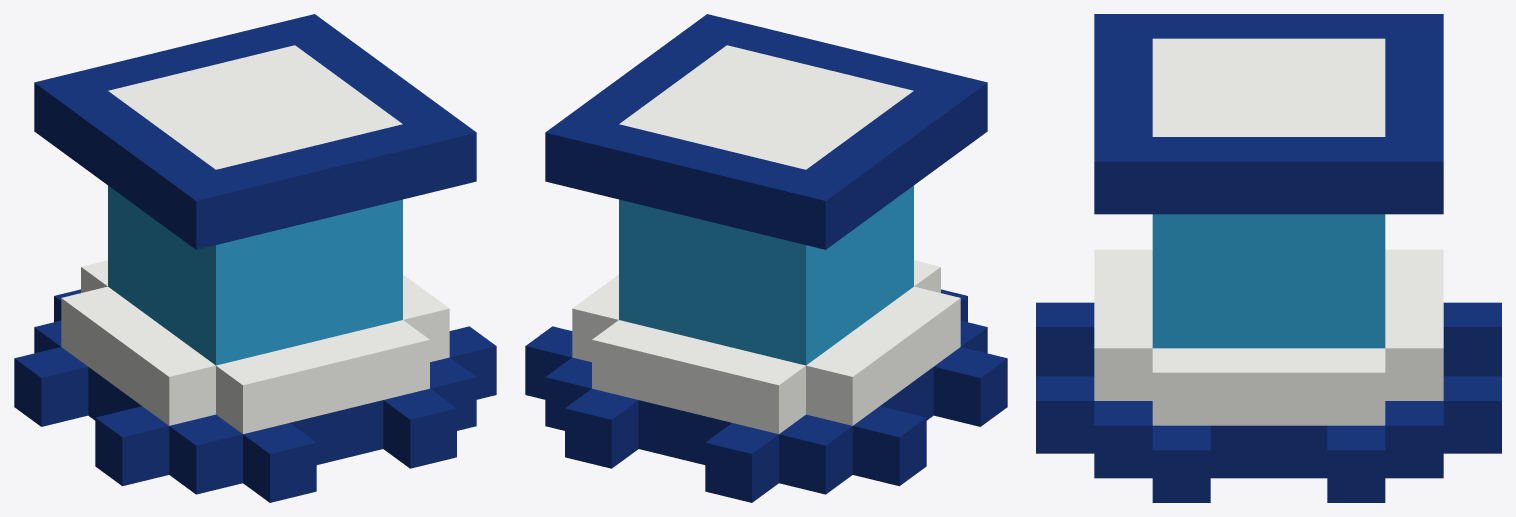
3 views of the same model, side by side, from view 1: azimuth 30°, elevation 25°; view 2: azimuth 150°, elevation 25°; view 3: azimuth 270°, elevation 25° (orthographic). The views are drawn at different scales.
Visible parts, largest first — view 1: UI Node; view 2: UI Node; view 3: UI Node.
Part boxes in pixels (x1,y1,x2,y2): UI Node: [14, 14, 496, 502]; UI Node: [525, 14, 1007, 502]; UI Node: [1036, 14, 1501, 502].
Size of the model in its own units: 0.8 by 0.6 by 0.8.
1 material, 1 textured.
